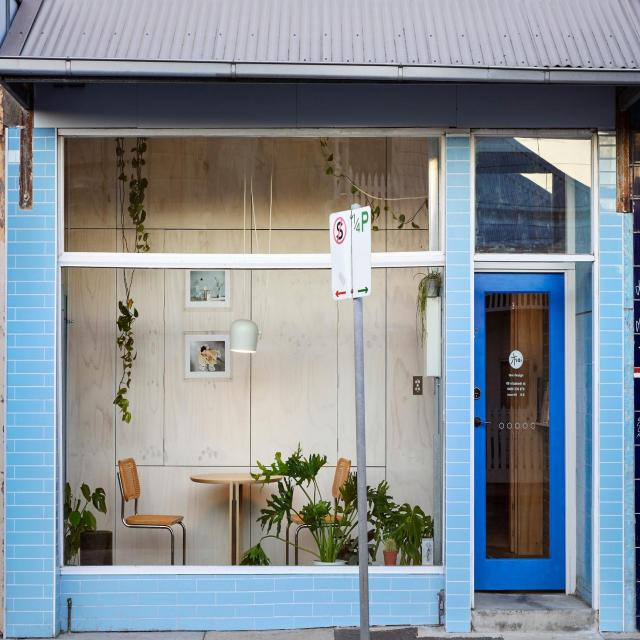door: (472, 273, 566, 592)
windows: (55, 129, 446, 573), (472, 132, 594, 252)
